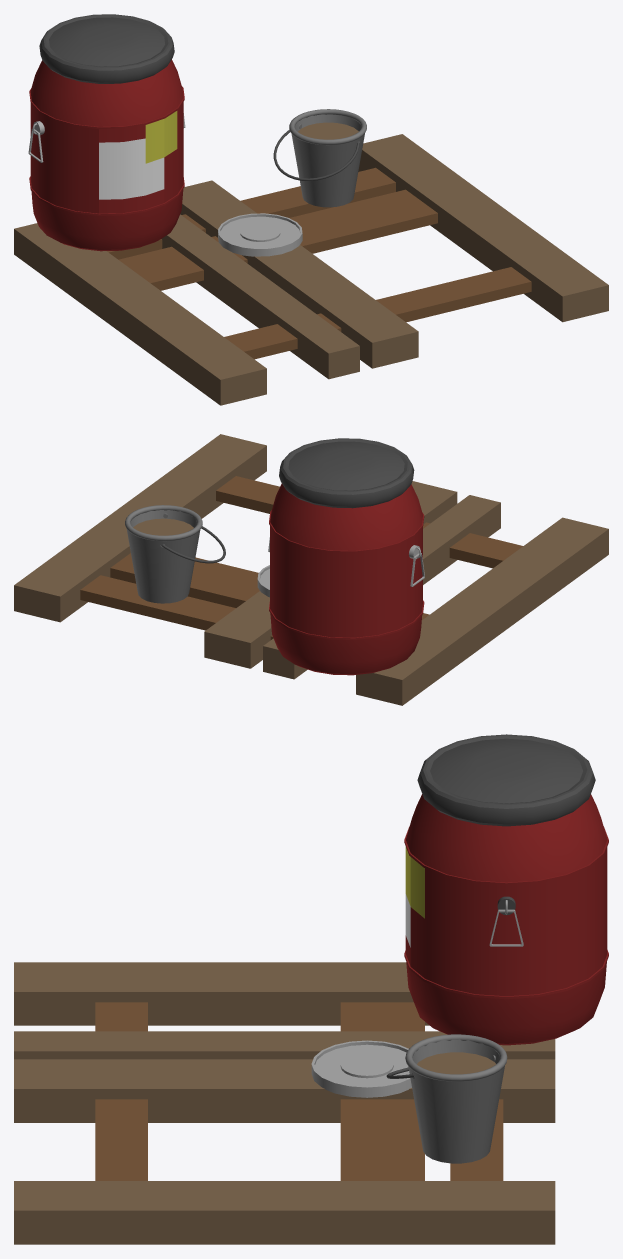
Rendered from bidon 3.fbx.
The picture shows the model from 3 angles, top to bottom: view 1: azimuth 30°, elevation 25°; view 2: azimuth 150°, elevation 25°; view 3: azimuth 270°, elevation 25°; orthographic projection. The views are drawn at different scales.
Visible parts, largest first — view 1: pCube39; view 2: pCube39; view 3: pCube39.
Boxes of the visible parts, box(x1,y1,x2,y2) form: pCube39: box(14, 14, 608, 405); pCube39: box(14, 434, 608, 705); pCube39: box(14, 734, 608, 1244).
Size of the model in its own units: 1.53 by 0.8048 by 1.54.
